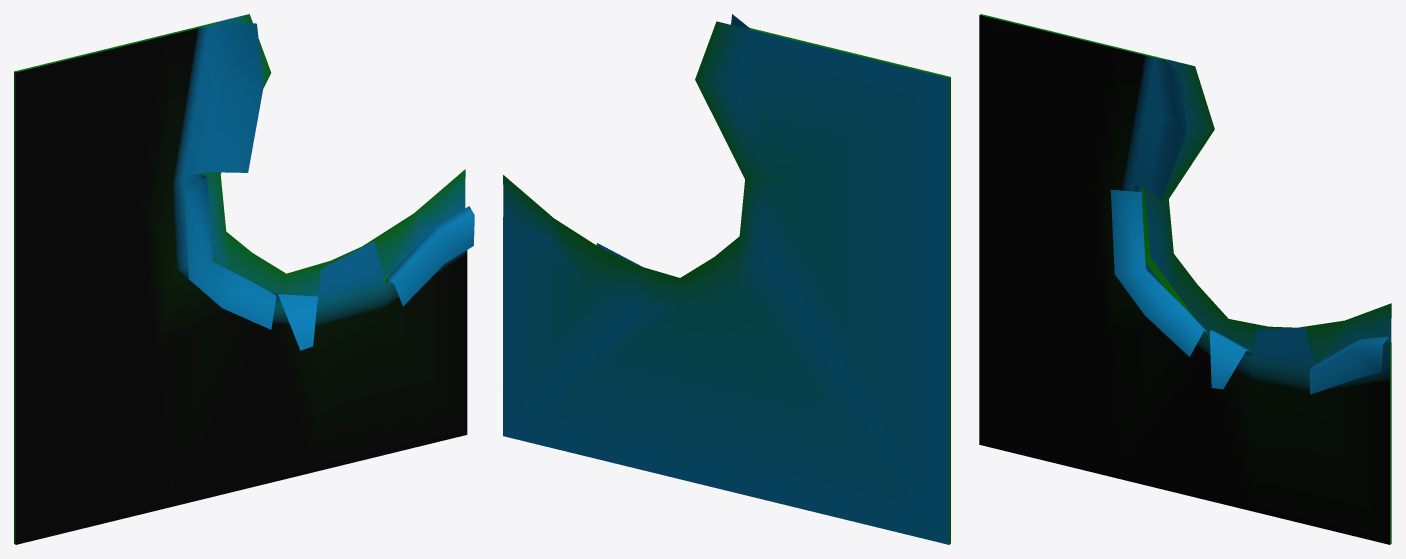
The model's file is DBK_Drywall_90_A_Single.fbx.
3 renders of one model, left to right at view 1: azimuth 30°, elevation 25°; view 2: azimuth 150°, elevation 25°; view 3: azimuth 330°, elevation 25°, orthographic. The views are drawn at different scales.
Visible parts, largest first — view 1: DBK_Drywall_90_A_Single; view 2: DBK_Drywall_90_A_Single; view 3: DBK_Drywall_90_A_Single.
Boxes of the visible parts, bbox=[...] form: DBK_Drywall_90_A_Single: bbox=[14, 14, 474, 544]; DBK_Drywall_90_A_Single: bbox=[503, 14, 950, 544]; DBK_Drywall_90_A_Single: bbox=[979, 14, 1391, 544].
Size of what is drawn, in the model's own units: 300 by 300 by 21.01.
